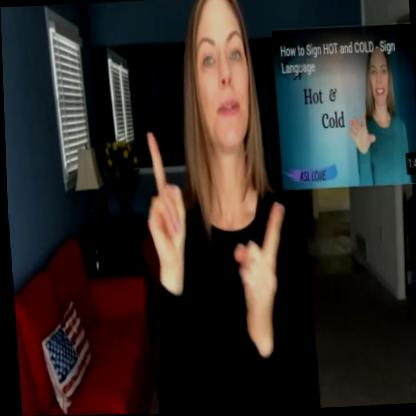NiceToMeetYou: (123, 0, 321, 415)
